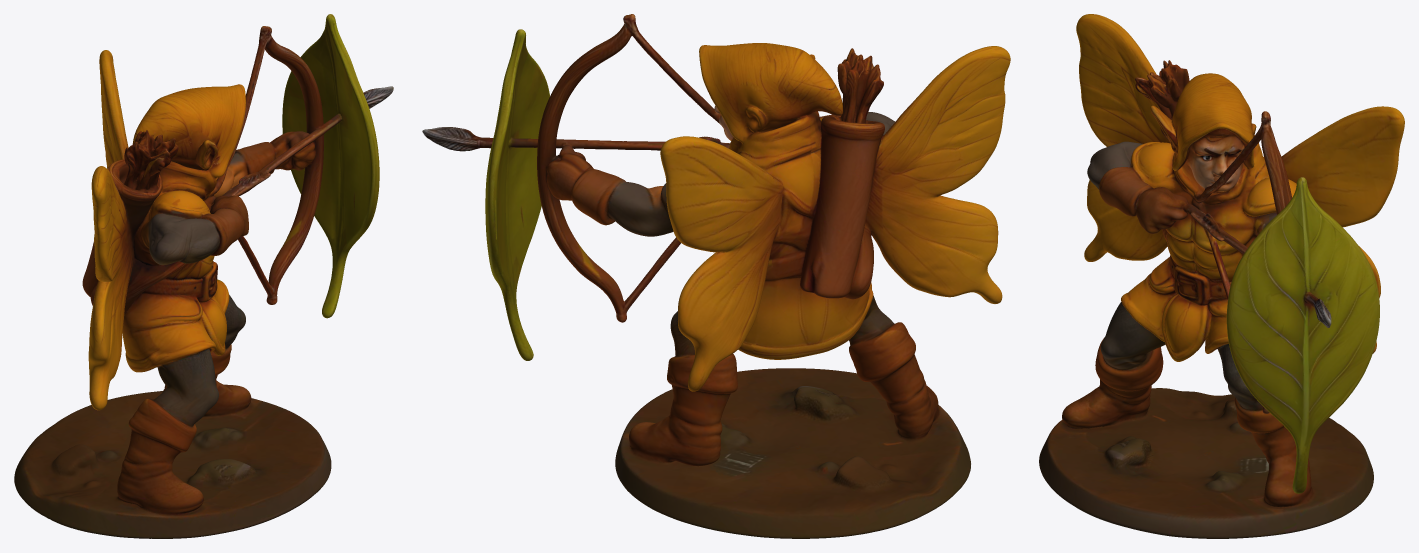
3 renders of one model, left to right at view 1: azimuth 30°, elevation 25°; view 2: azimuth 150°, elevation 25°; view 3: azimuth 270°, elevation 25°, orthographic. The views are drawn at different scales.
Parts seen in each view (by area): view 1: tripo_node_9c4618fe-459d-4f9c-a86f-25d465127014; view 2: tripo_node_9c4618fe-459d-4f9c-a86f-25d465127014; view 3: tripo_node_9c4618fe-459d-4f9c-a86f-25d465127014.
Part boxes in pixels (x1=…): tripo_node_9c4618fe-459d-4f9c-a86f-25d465127014: x1=14, y1=14, x2=393, y2=538; tripo_node_9c4618fe-459d-4f9c-a86f-25d465127014: x1=422, y1=14, x2=1010, y2=538; tripo_node_9c4618fe-459d-4f9c-a86f-25d465127014: x1=1039, y1=14, x2=1404, y2=538.
Size of the model in its own units: 1 by 0.9234 by 0.717.
Materials: 1 (1 with a texture image).
